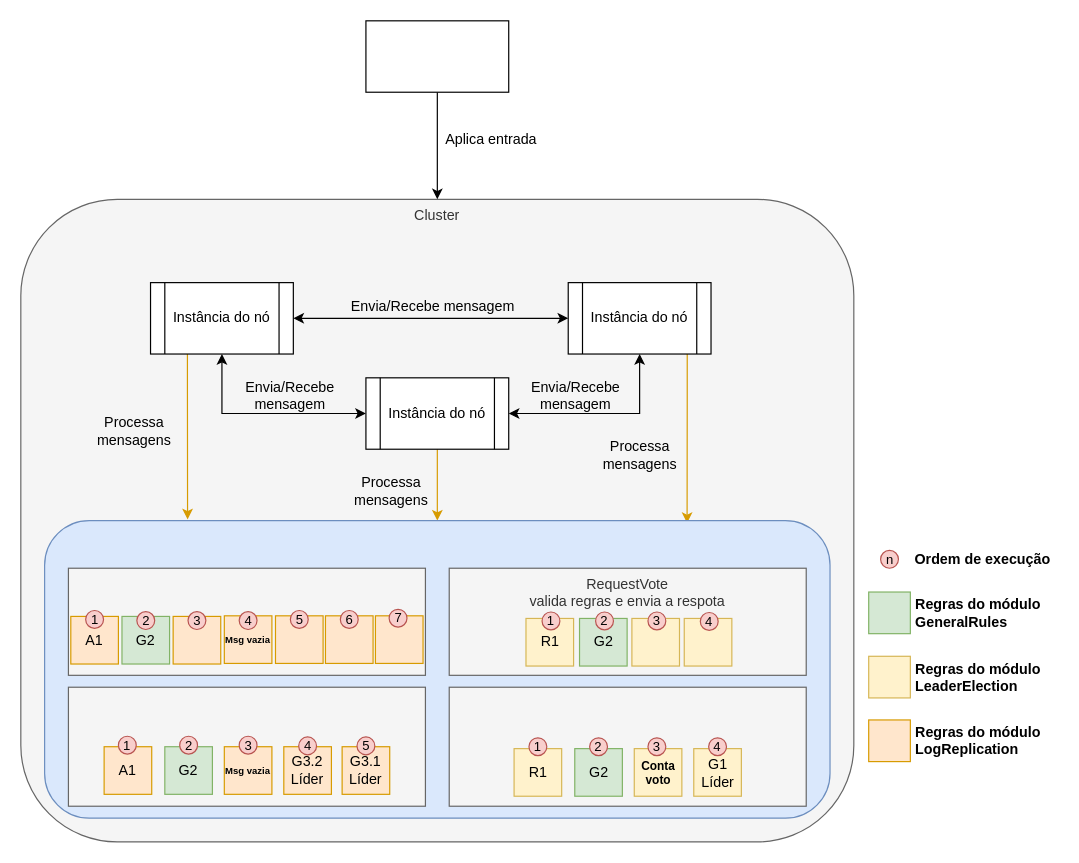
This 1079x863 diagram has some shape labels left out. The box of each missing label's shape, as (x1, y1, x2, y2) in pixels:
A2: (274, 615, 323, 663)
A3: (324, 615, 373, 663)
A4: (374, 615, 423, 663)
A5: (172, 615, 221, 664)
AppendEntries valida regras e envia a respota: (67, 567, 425, 675)
AppendEntriesResp valida regras da resposta: (67, 686, 425, 806)
Cliente: (365, 20, 509, 92)
R2,2: (683, 617, 732, 666)
R2.1: (631, 617, 679, 666)
RequestVoteResp valida regras da resposta: (448, 686, 806, 806)
Tipos de Mensagens: (43, 519, 830, 818)
